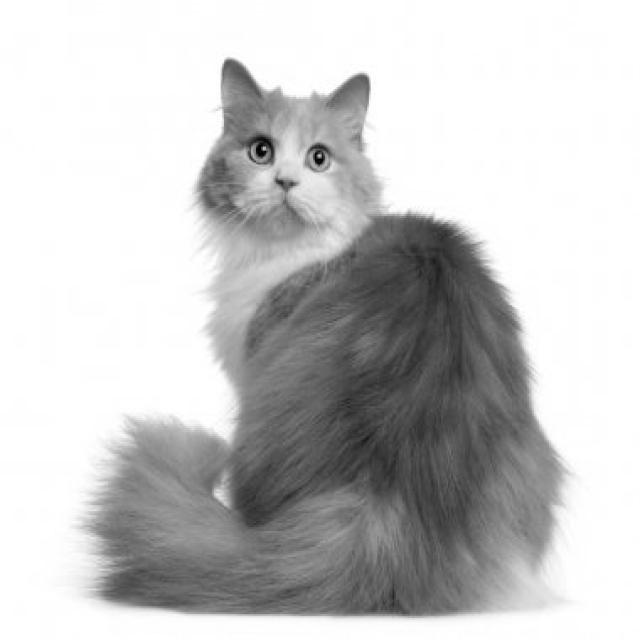Animal: (83, 57, 560, 623)
